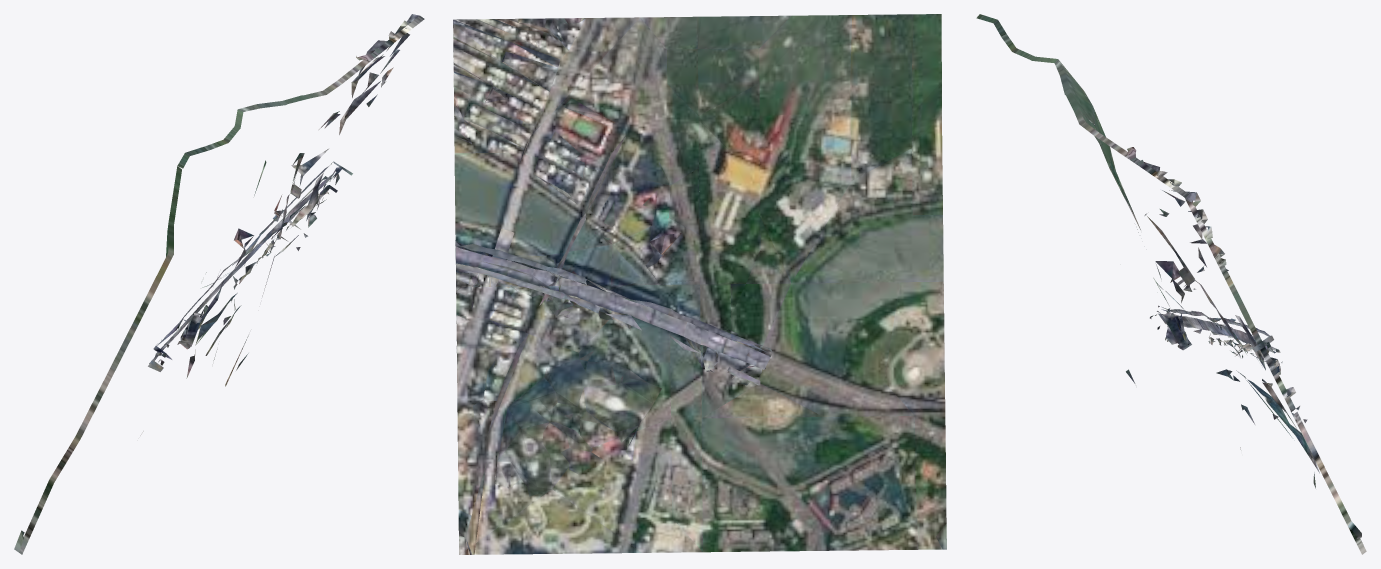
The picture shows the model from 3 angles, left to right: view 1: azimuth 30°, elevation 25°; view 2: azimuth 150°, elevation 25°; view 3: azimuth 270°, elevation 25°; orthographic projection. The views are drawn at different scales.
Bounding box in the file's own units: 1227 × 1151 × 970.
1 material, 1 textured.
